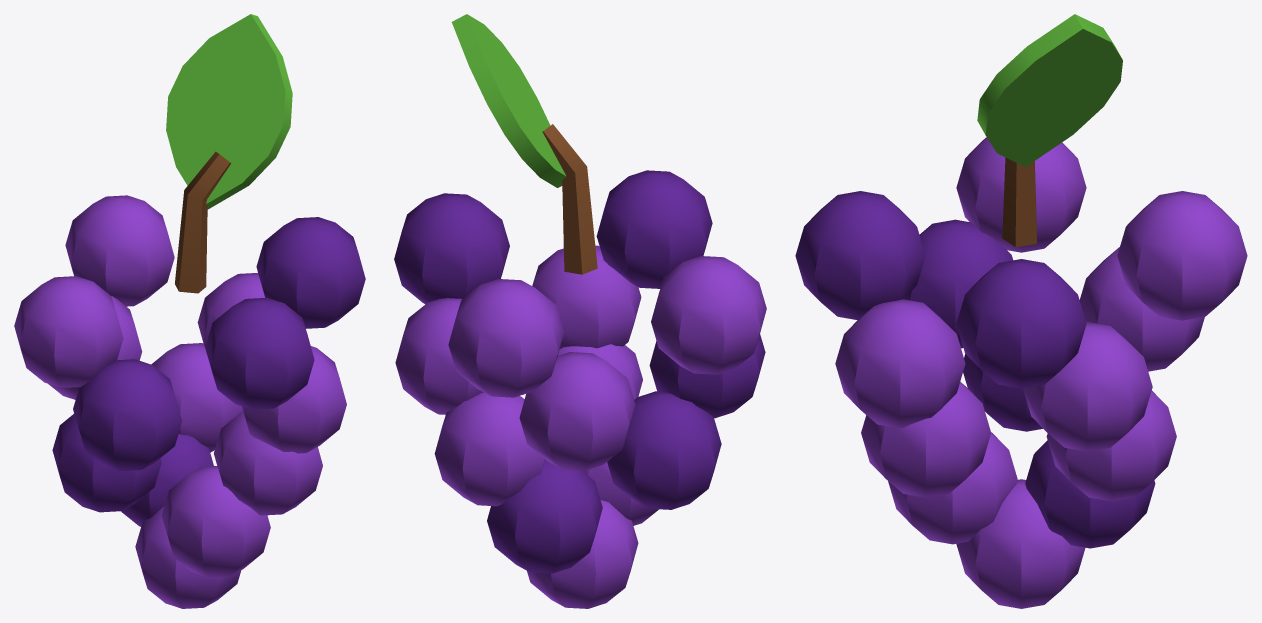
File: Grapes.fbx
The picture shows the model from 3 angles, left to right: view 1: azimuth 30°, elevation 25°; view 2: azimuth 150°, elevation 25°; view 3: azimuth 270°, elevation 25°; orthographic projection. The views are drawn at different scales.
Visible parts, largest first — view 1: Grapes; view 2: Grapes; view 3: Grapes.
Boxes of the visible parts, left/top/right/bottom form: Grapes: left=14, top=14, right=365, bottom=608; Grapes: left=394, top=14, right=766, bottom=608; Grapes: left=795, top=14, right=1247, bottom=608.
Bounding box in the file's own units: 1.18 × 1.83 × 1.18.
1 material, 1 textured.
